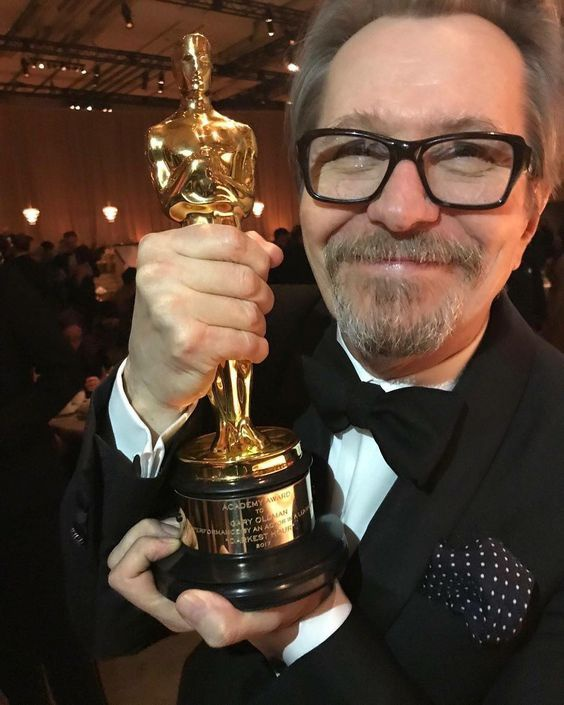hand: (107, 525, 333, 632)
